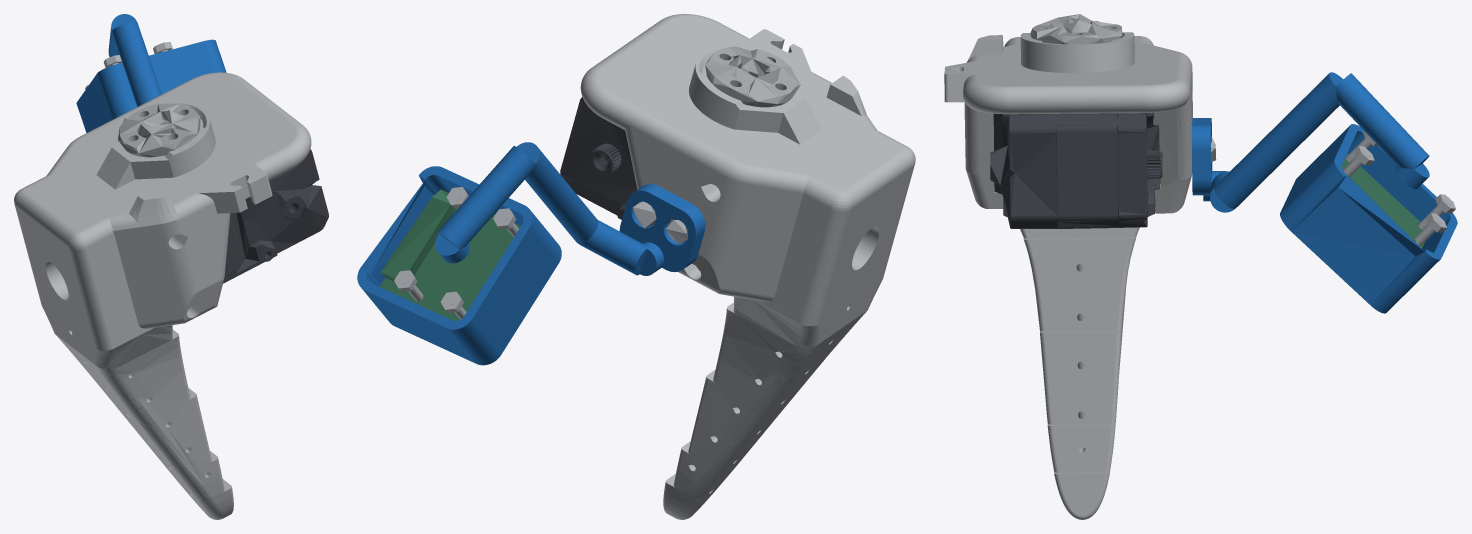
The model's file is arm_gripper.glb.
3 views of the same model, side by side, from view 1: azimuth 30°, elevation 25°; view 2: azimuth 150°, elevation 25°; view 3: azimuth 270°, elevation 25° (orthographic). The views are drawn at different scales.
Visible parts, largest first — view 1: arm_gripper_4, arm_gripper_2, arm_gripper_5, arm_gripper_6; view 2: arm_gripper_4, arm_gripper_2, arm_gripper_0, arm_gripper_5, arm_gripper_6, arm_gripper_3; view 3: arm_gripper_4, arm_gripper_2, arm_gripper_5, arm_gripper_6, arm_gripper_3, arm_gripper_0.
Part boxes in pixels (box(x1,y1,x2,y2)): arm_gripper_4: box(14, 72, 311, 519); arm_gripper_2: box(76, 14, 226, 132); arm_gripper_5: box(223, 149, 328, 283); arm_gripper_6: box(118, 103, 200, 157); arm_gripper_4: box(580, 14, 915, 519); arm_gripper_2: box(357, 142, 705, 365); arm_gripper_0: box(380, 189, 520, 320); arm_gripper_5: box(560, 97, 637, 219); arm_gripper_6: box(705, 46, 800, 107); arm_gripper_3: box(394, 187, 688, 319); arm_gripper_4: box(944, 32, 1192, 519); arm_gripper_2: box(1192, 72, 1457, 313); arm_gripper_5: box(990, 112, 1162, 228); arm_gripper_6: box(1030, 14, 1122, 44); arm_gripper_3: box(1211, 131, 1455, 246); arm_gripper_0: box(1341, 154, 1424, 248).
Size of the model in its own units: 0.0838 by 0.1094 by 0.1083.
